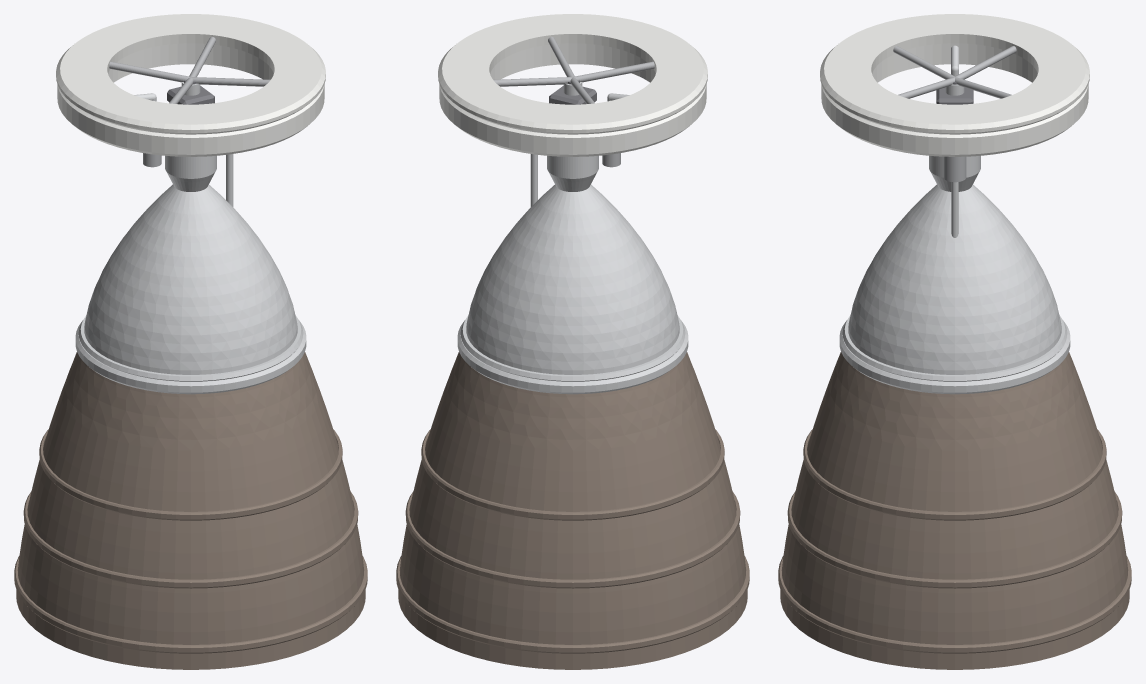
File: ax_prop_10_hydrolox_vac_s_deployed.glb
3 renders of one model, left to right at view 1: azimuth 30°, elevation 25°; view 2: azimuth 150°, elevation 25°; view 3: azimuth 270°, elevation 25°, orthographic.
Parts seen in each view (by area): view 1: nozzle_extension, regen_nozzle, mount_ring, extension_hoops, thermal_blanket_ring, joint_flange, regen_manifold, thrust_struts, chamber, gimbal; view 2: nozzle_extension, regen_nozzle, mount_ring, extension_hoops, thermal_blanket_ring, joint_flange, regen_manifold, thrust_struts, chamber, gimbal; view 3: nozzle_extension, regen_nozzle, mount_ring, extension_hoops, thermal_blanket_ring, joint_flange, regen_manifold, thrust_struts, chamber, plumbing, turbopumps.
Part boxes in pixels (left/top/right/bottom): nozzle_extension: left=16, top=352, right=365, bottom=669; regen_nozzle: left=84, top=184, right=297, bottom=374; mount_ring: left=56, top=14, right=325, bottom=134; extension_hoops: left=14, top=429, right=367, bottom=653; thermal_blanket_ring: left=57, top=43, right=324, bottom=156; joint_flange: left=75, top=320, right=306, bottom=394; regen_manifold: left=78, top=315, right=303, bottom=381; thrust_struts: left=109, top=37, right=270, bottom=103; chamber: left=165, top=156, right=216, bottom=191; gimbal: left=167, top=80, right=214, bottom=104; nozzle_extension: left=398, top=352, right=747, bottom=669; regen_nozzle: left=466, top=184, right=679, bottom=374; mount_ring: left=438, top=14, right=707, bottom=134; extension_hoops: left=396, top=429, right=749, bottom=653; thermal_blanket_ring: left=439, top=43, right=706, bottom=156; joint_flange: left=457, top=320, right=688, bottom=394; regen_manifold: left=460, top=315, right=685, bottom=381; thrust_struts: left=493, top=37, right=654, bottom=103; chamber: left=547, top=156, right=598, bottom=191; gimbal: left=549, top=80, right=596, bottom=104; nozzle_extension: left=780, top=352, right=1129, bottom=669; regen_nozzle: left=848, top=184, right=1061, bottom=374; mount_ring: left=820, top=14, right=1089, bottom=134; extension_hoops: left=778, top=429, right=1131, bottom=653; thermal_blanket_ring: left=821, top=43, right=1088, bottom=156; joint_flange: left=839, top=320, right=1070, bottom=394; regen_manifold: left=842, top=315, right=1067, bottom=381; thrust_struts: left=893, top=46, right=1016, bottom=98; chamber: left=929, top=156, right=980, bottom=191; plumbing: left=951, top=45, right=958, bottom=237; turbopumps: left=943, top=156, right=966, bottom=182.
Size of the model in its own units: 1.64 by 2.69 by 1.64.
